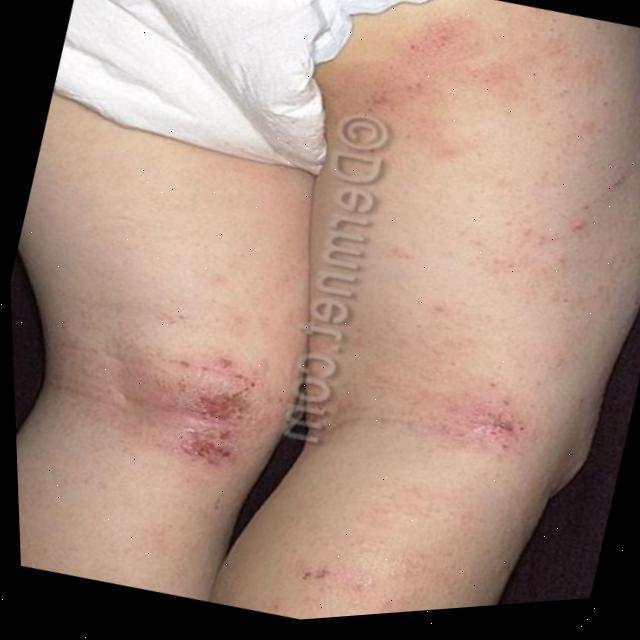Eczema: (323, 0, 517, 187), (365, 350, 539, 496), (147, 350, 278, 532), (294, 552, 356, 618)
